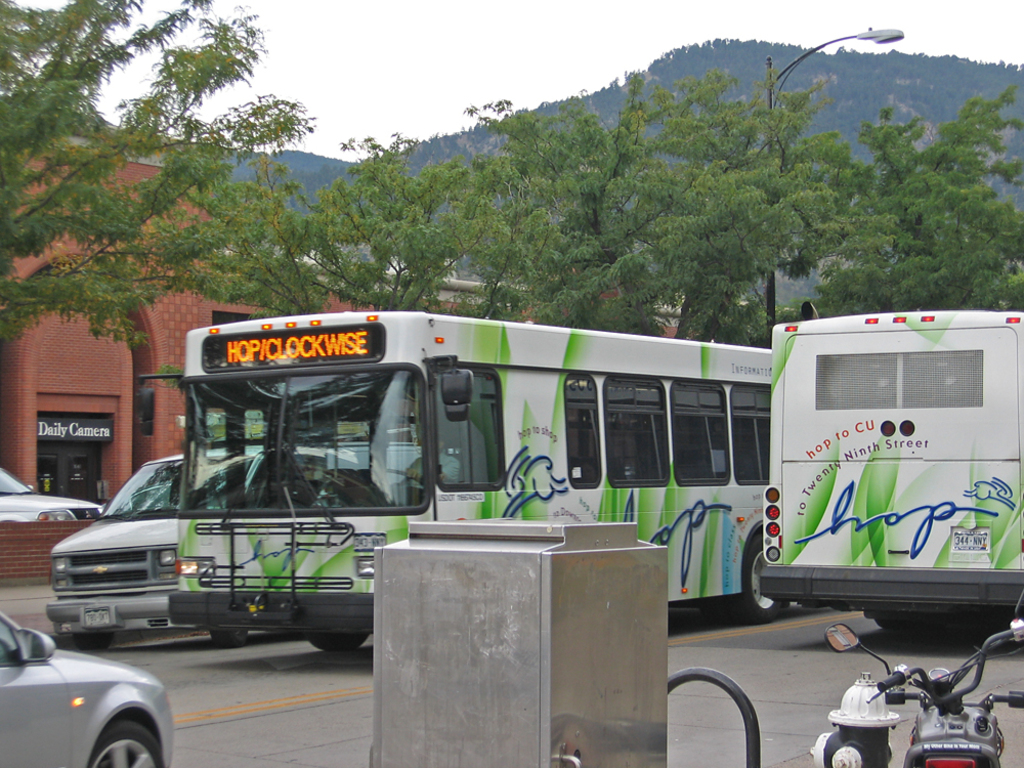cars: (0, 604, 175, 766), (0, 457, 102, 520)
